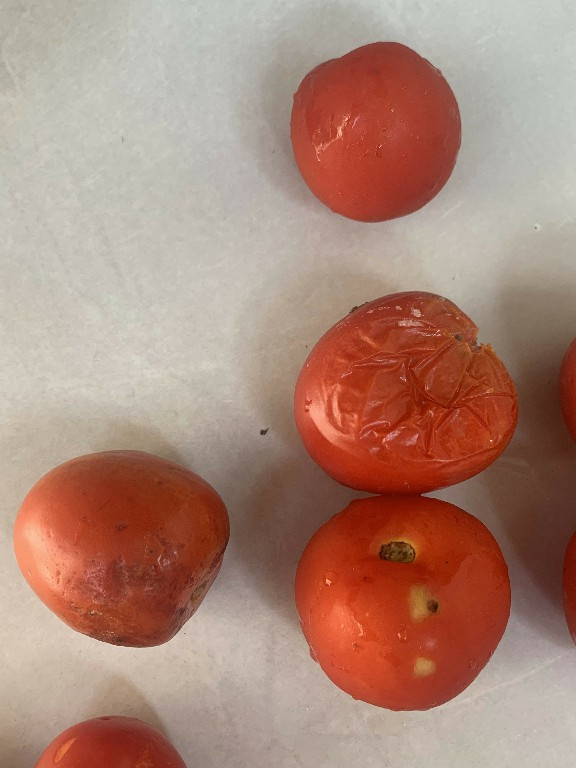NG: (288, 493, 525, 728), (10, 431, 241, 655), (290, 278, 527, 493)
OK: (277, 26, 473, 223)
